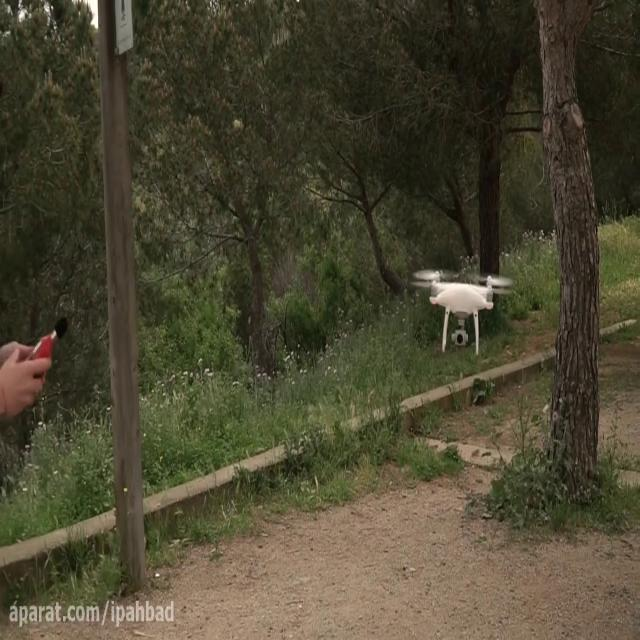drone: (412, 264, 516, 355)
